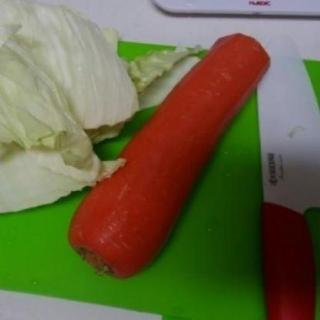carrot: (65, 32, 272, 282)
